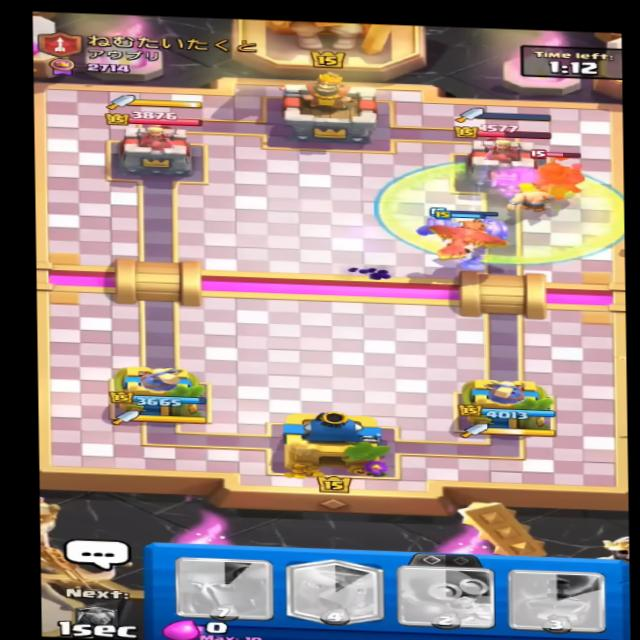prince: (517, 147, 596, 200)
